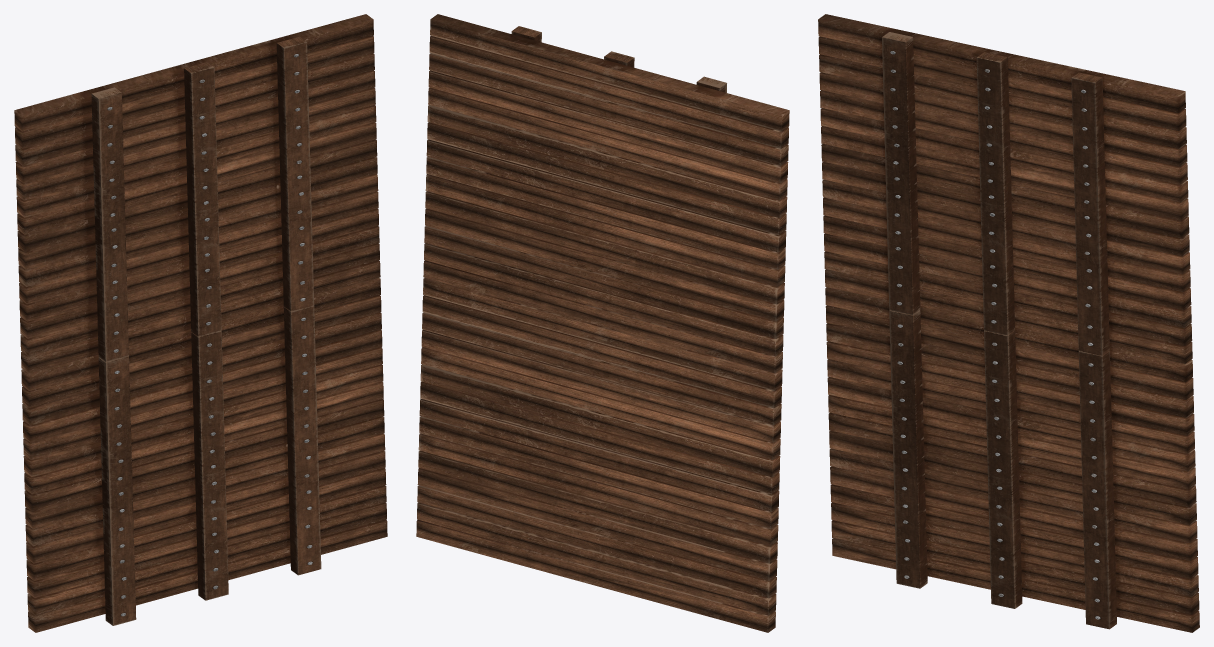
The model's file is Drawbridge_Compressed.glb.
3 renders of one model, left to right at view 1: azimuth 30°, elevation 25°; view 2: azimuth 150°, elevation 25°; view 3: azimuth 330°, elevation 25°, orthographic. The views are drawn at different scales.
Parts seen in each view (by area): view 1: Cylinder.022; view 2: Cylinder.022; view 3: Cylinder.022.
Boxes of the visible parts, left/top/right/bottom form: Cylinder.022: left=14, top=14, right=387, bottom=632; Cylinder.022: left=416, top=14, right=789, bottom=632; Cylinder.022: left=818, top=14, right=1199, bottom=632.
Bounding box in the file's own units: 23.31 × 32.67 × 1.67.
Materials: 3 (3 with a texture image).
